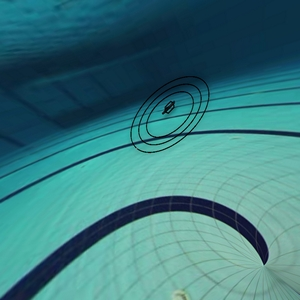circle: (103, 67, 231, 158)
submarine: (158, 99, 180, 118)
